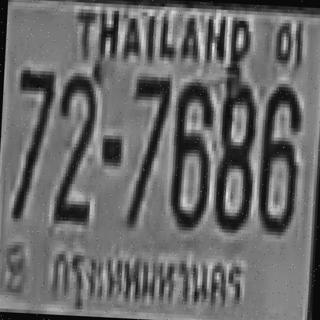N02: (52, 70, 97, 214), (55, 72, 97, 202)
N06: (255, 83, 300, 233), (168, 78, 213, 228)
N07: (127, 73, 170, 226), (12, 66, 54, 213), (13, 66, 54, 182), (14, 67, 54, 169), (14, 66, 54, 159)
N08: (212, 77, 256, 230)
P04: (42, 240, 248, 320)
